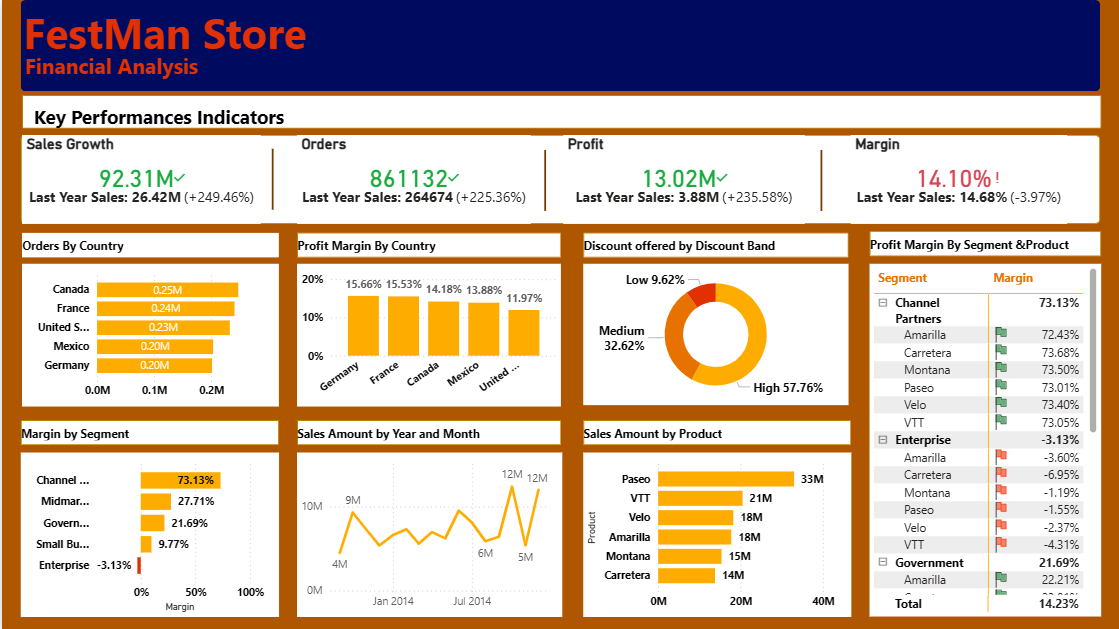

The dashboard page shown, as its layout file describes it:
{"tool":"powerbi","page":{"name":"Page 1","canvas":[1280,720],"ordinal":0},"visuals":[{"type":"shape","box":[22,0,1233.6,104.3],"z":0},{"type":"shape","box":[23.3,108.4,1233.6,38.4],"z":1000},{"type":"shape","box":[22,154.1,1233.6,101.5],"z":2000},{"type":"shape","box":[22,547.5,295,157.8],"z":3000},{"type":"shape","box":[23.3,265.1,293.7,28.8],"z":4000},{"type":"shape","box":[337.6,265.1,301.9,28.8],"z":5000},{"type":"shape","box":[990.7,264.8,264.8,28.8],"z":6000},{"type":"shape","box":[22,480.6,295,28.8],"z":7000},{"type":"shape","box":[337.6,480.4,301.9,28.8],"z":8000},{"type":"shape","box":[664.2,480.4,306,28.8],"z":9000},{"type":"shape","box":[664.2,265.1,303.3,28.8],"z":10000},{"type":"shape","box":[9.6,0,352.7,71.4],"z":11000},{"type":"shape","box":[26.1,59,326.6,32.9],"z":12000},{"type":"shape","box":[35.7,115.3,326.6,32.9],"z":13000},{"type":"kpi","title":"Sales Growth ","fields":{"Indicator":["_Measures.Sales Amount"],"TrendLine":["Date TAble.Year"],"Goal":["_Measures.Sales Amount ly"]},"box":[23.3,153.7,273.1,101.5],"z":14000},{"type":"shape","box":[275.8,170.2,67.2,70],"z":15000},{"type":"kpi","title":"Orders","fields":{"TrendLine":["Date TAble.Year"],"Indicator":["_Measures.Orders"],"Goal":["_Measures.Orders ly"]},"box":[337.6,153.7,267.6,101.5],"z":16000},{"type":"shape","box":[587.3,171.5,67.2,70],"z":17000},{"type":"kpi","title":"Profit","fields":{"TrendLine":["Date TAble.Year"],"Indicator":["_Measures.Total Profit"],"Goal":["_Measures.Profit ly"]},"box":[640.8,153.7,275.8,101.5],"z":18000},{"type":"shape","box":[902.9,171.9,67.2,70],"z":19000},{"type":"kpi","title":"Margin ","fields":{"TrendLine":["Date TAble.Year"],"Indicator":["_Measures.Margin"],"Goal":["_Measures.Margin ly"]},"box":[970.2,154.1,247,101.5],"z":20000},{"type":"clusteredBarChart","fields":{"Y":["_Measures.Orders"],"Category":["financials.Country"]},"box":[23.3,300.8,293.7,163.3],"z":21000},{"type":"columnChart","fields":{"Y":["_Measures.Margin"],"Category":["financials.Country"]},"box":[337.6,300.8,301.9,163.3],"z":22000},{"type":"donutChart","fields":{"Y":["_Measures.Discount offered"],"Category":["financials.Discount Band"]},"box":[664.2,301.9,303.3,161.9],"z":23000},{"type":"barChart","fields":{"Y":["_Measures.Margin"],"Category":["financials.Segment"]},"box":[22,517.3,295,188],"z":24000},{"type":"lineChart","fields":{"Y":["_Measures.Sales Amount"],"Category":["Date TAble.Date.Variation.Date Hierarchy.Year","Date TAble.Date.Variation.Date Hierarchy.Month"]},"box":[337.6,517.3,303.3,188],"z":25000},{"type":"barChart","fields":{"Y":["_Measures.Sales Amount"],"Category":["financials.Product"]},"box":[664.2,517.3,306,188],"z":26000},{"type":"pivotTable","fields":{"Values":["_Measures.Margin"],"Rows":["financials.Segment","financials.Product"]},"box":[990.7,301.9,264.8,403.4],"z":26001}]}

Visuals, with their boxes in screenshot pixels (x1, y1, x2, y2), scaled from the page's 1280x720 canvas onto the 1119x629 screenshot:
shape: <bbox>19, 0, 1098, 91</bbox>
shape: <bbox>20, 95, 1099, 128</bbox>
shape: <bbox>19, 135, 1098, 223</bbox>
shape: <bbox>19, 478, 277, 616</bbox>
shape: <bbox>20, 232, 277, 257</bbox>
shape: <bbox>295, 232, 559, 257</bbox>
shape: <bbox>866, 231, 1098, 256</bbox>
shape: <bbox>19, 420, 277, 445</bbox>
shape: <bbox>295, 420, 559, 445</bbox>
shape: <bbox>581, 420, 848, 445</bbox>
shape: <bbox>581, 232, 846, 257</bbox>
shape: <bbox>8, 0, 317, 62</bbox>
shape: <bbox>23, 52, 308, 80</bbox>
shape: <bbox>31, 101, 317, 129</bbox>
"Sales Growth " kpi: <bbox>20, 134, 259, 223</bbox>
shape: <bbox>241, 149, 300, 210</bbox>
"Orders" kpi: <bbox>295, 134, 529, 223</bbox>
shape: <bbox>513, 150, 572, 211</bbox>
"Profit" kpi: <bbox>560, 134, 801, 223</bbox>
shape: <bbox>789, 150, 848, 211</bbox>
"Margin " kpi: <bbox>848, 135, 1064, 223</bbox>
clusteredBarChart - _Measures.Orders x financials.Country: <bbox>20, 263, 277, 405</bbox>
columnChart - _Measures.Margin x financials.Country: <bbox>295, 263, 559, 405</bbox>
donutChart - _Measures.Discount offered x financials.Discount Band: <bbox>581, 264, 846, 405</bbox>
barChart - _Measures.Margin x financials.Segment: <bbox>19, 452, 277, 616</bbox>
lineChart - _Measures.Sales Amount x Date TAble.Date.Variation.Date Hierarchy.Year: <bbox>295, 452, 560, 616</bbox>
barChart - _Measures.Sales Amount x financials.Product: <bbox>581, 452, 848, 616</bbox>
pivotTable - _Measures.Margin x financials.Segment: <bbox>866, 264, 1098, 616</bbox>
